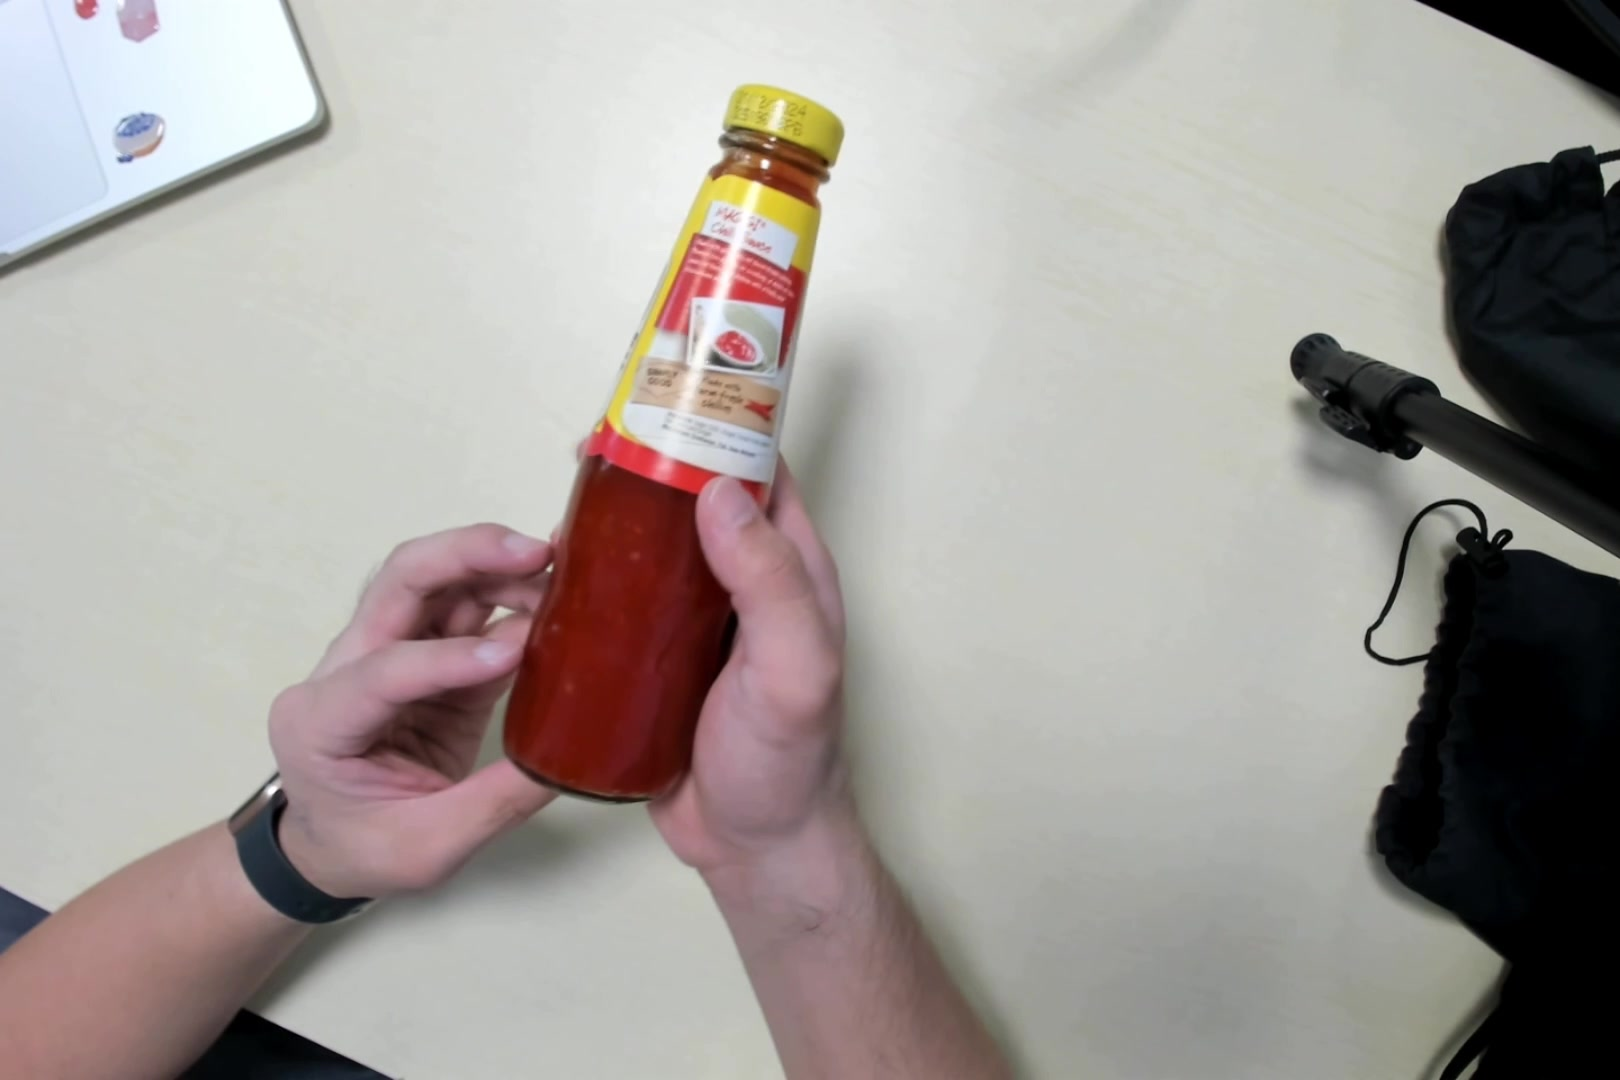KetchupChillSauce_300-399g_Halal_NonHealthy: (495, 71, 850, 810)
